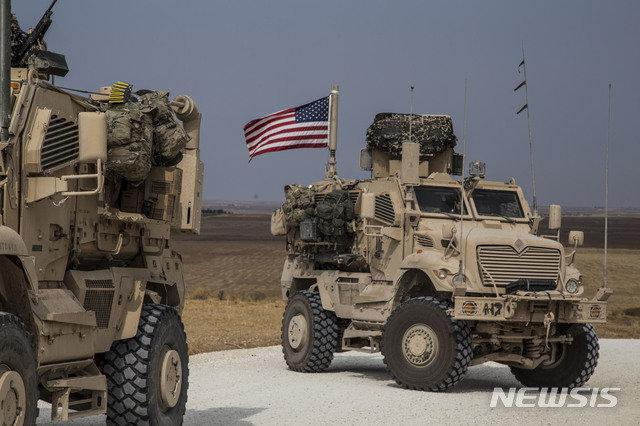MIL_IFV: (277, 94, 613, 388)
